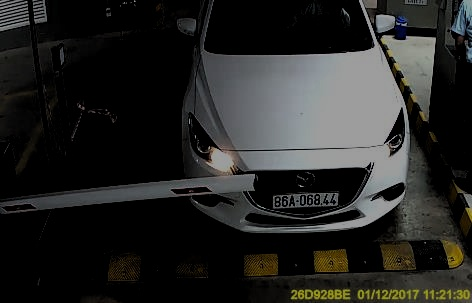plate: (271, 190, 337, 209)
